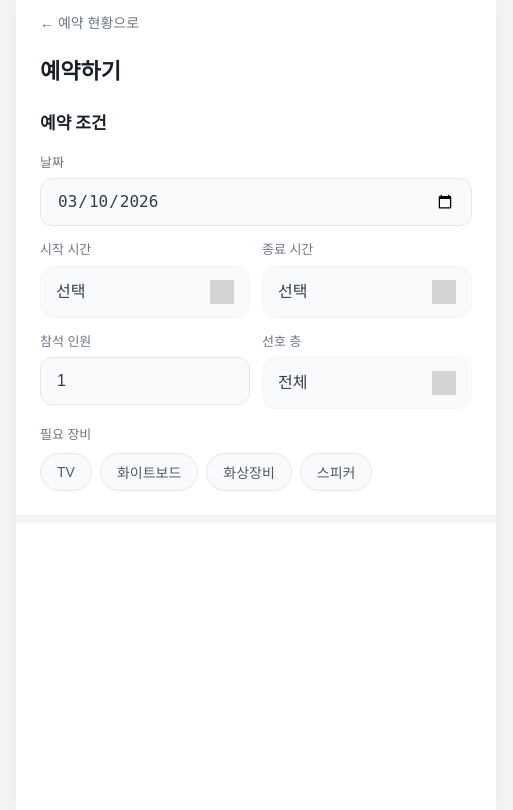
Test: 예약하기 페이지 › 종료 시간이 시작 시간보다 빠르면 검증 에러가 표시된다
expect the text "예약 조건" is shown: met, box x1=40 y1=111 x2=107 y2=136
Select "14:00" in the dropdown named "시작 시간". click: point(145, 292)
box: x1=40 y1=266 x2=250 y2=318
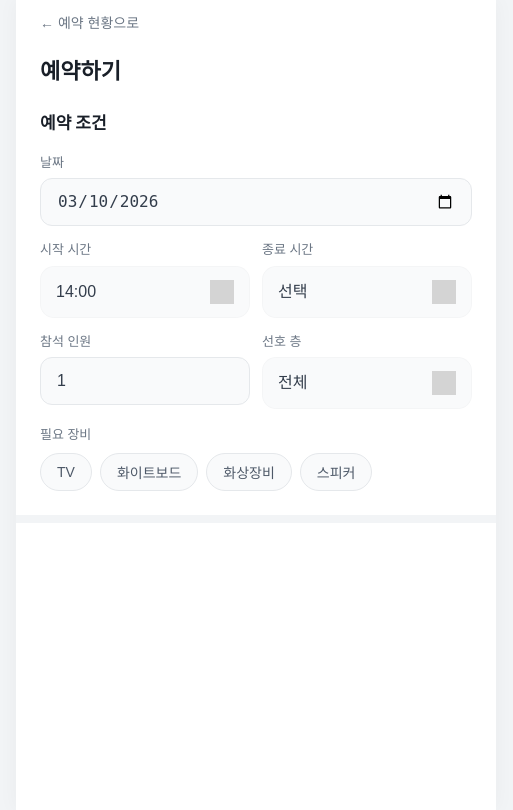
Select "10:00" in the dropdown named "종료 시간". click: point(367, 292)
box: x1=262 y1=266 x2=472 y2=318
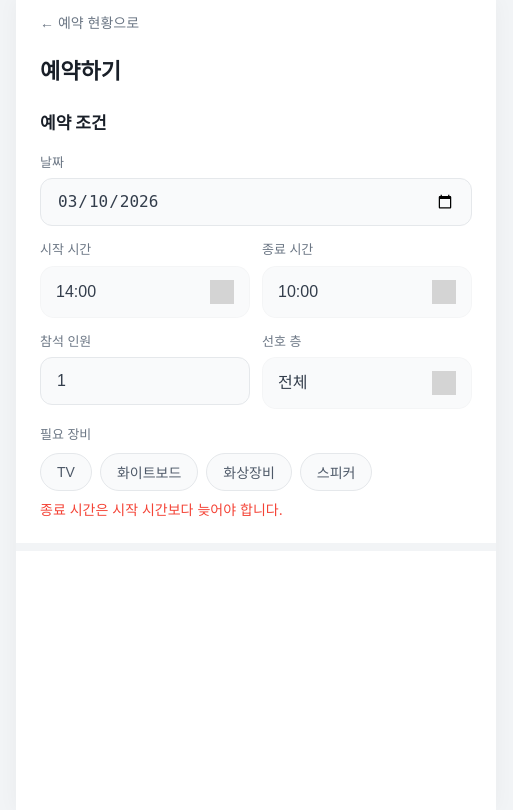
expect the text "종료 시간은 시작 시간보다 늦어야 합니다." is shown: met, box x1=40 y1=500 x2=283 y2=518
